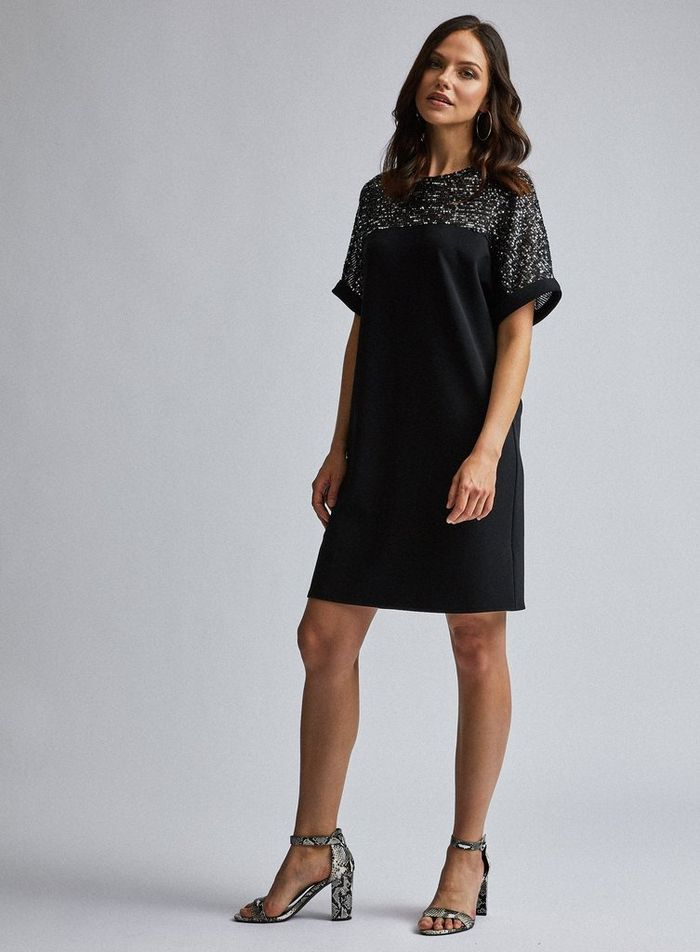S_dress: (304, 173, 545, 610)
